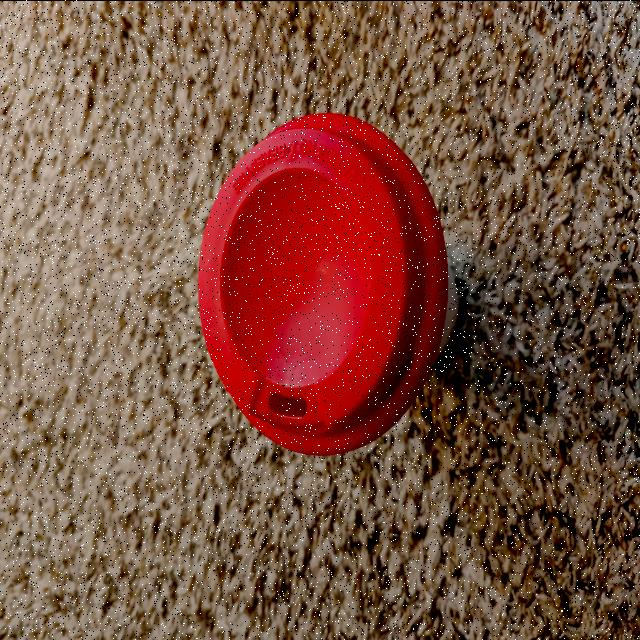mug: (192, 119, 460, 456)
